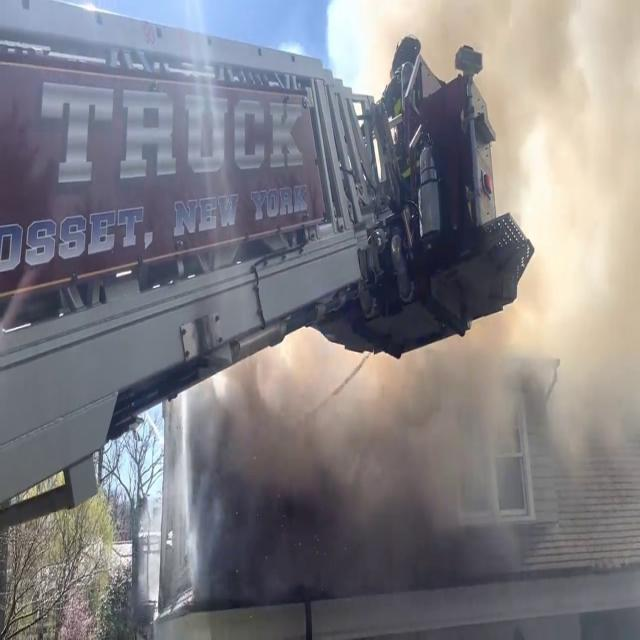Smoke: (453, 18, 640, 616), (168, 322, 504, 612)
